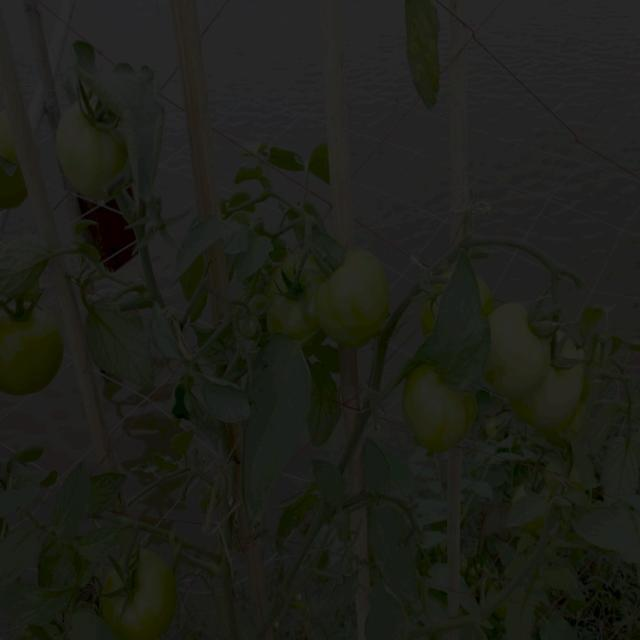tomato: (483, 289, 557, 405), (311, 255, 395, 347), (56, 95, 132, 195), (102, 540, 178, 640), (410, 364, 485, 461), (1, 303, 68, 398), (535, 334, 580, 432), (273, 252, 315, 339), (1, 131, 28, 206), (513, 478, 566, 511), (419, 289, 447, 335), (234, 314, 267, 351)
